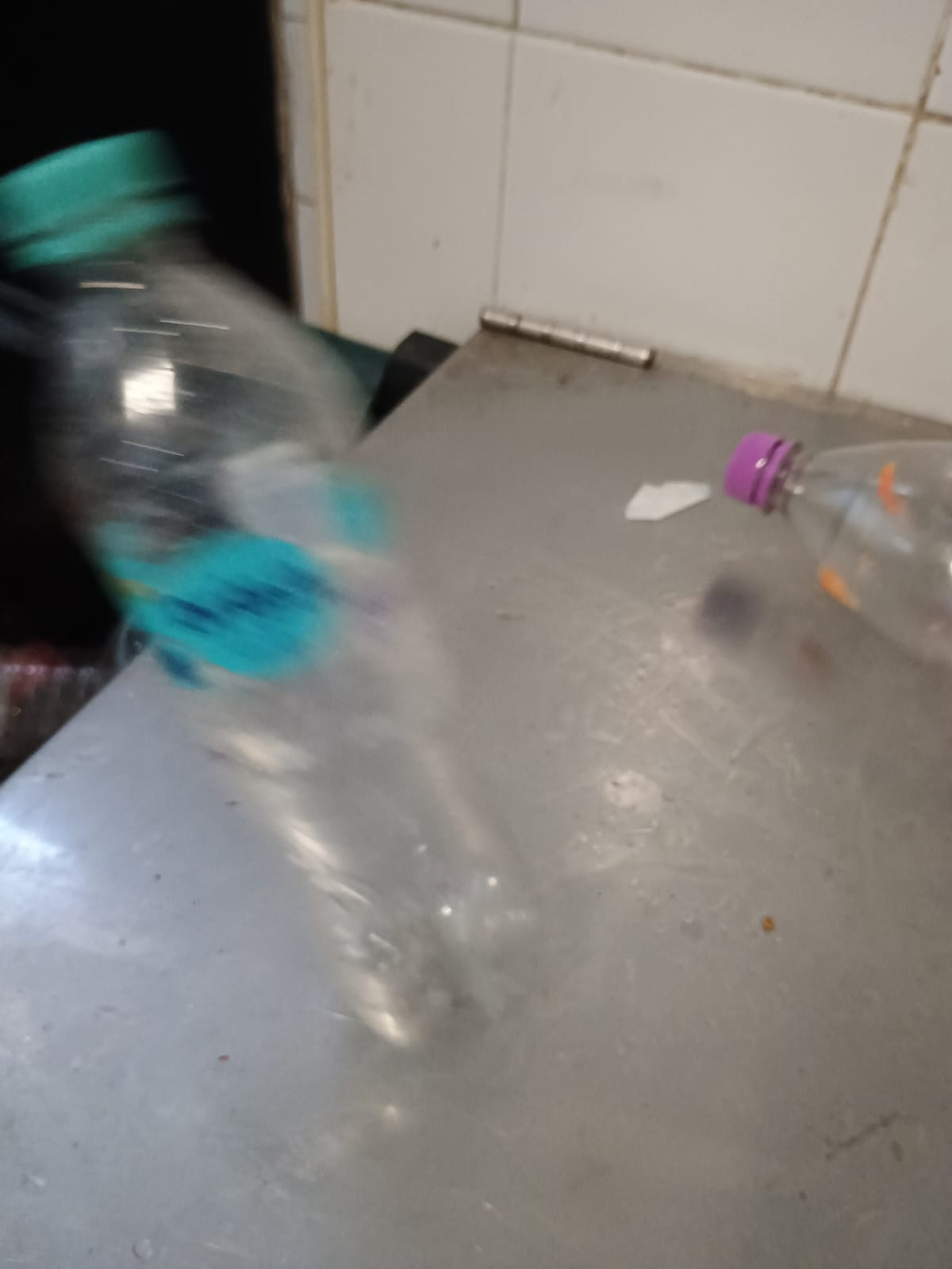Plastico: (0, 131, 547, 1050), (726, 435, 952, 662)
